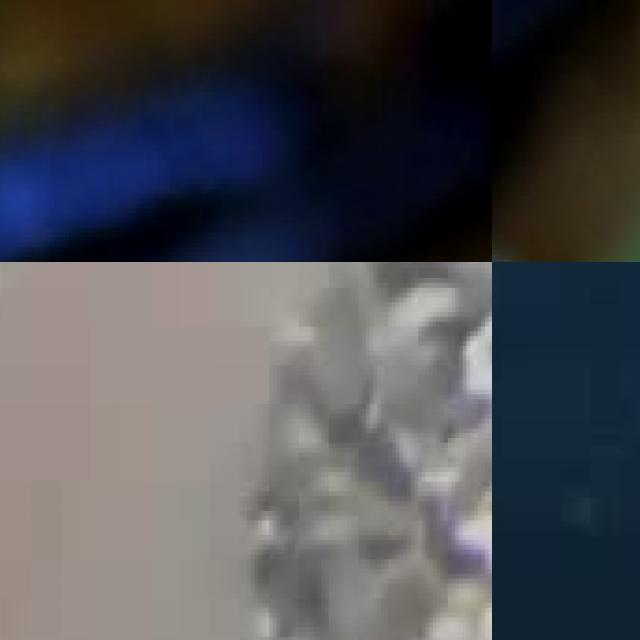fish: (0, 0, 492, 262), (492, 0, 640, 262)
